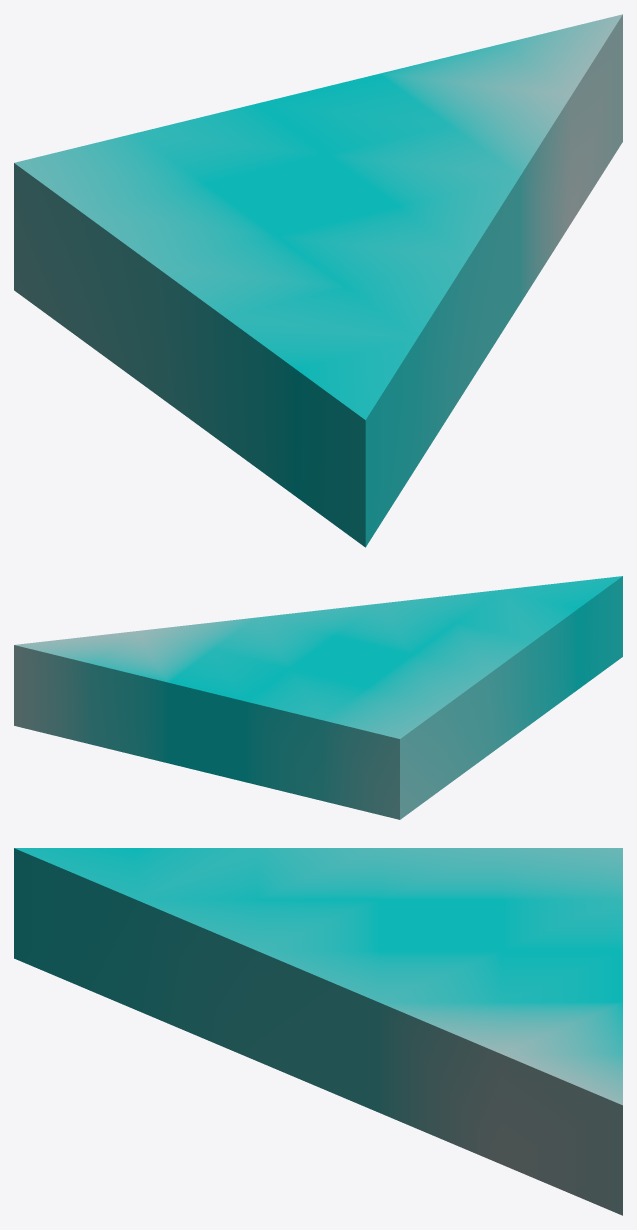
3 renders of one model, top to bottom at view 1: azimuth 30°, elevation 25°; view 2: azimuth 150°, elevation 25°; view 3: azimuth 270°, elevation 25°, orthographic. The views are drawn at different scales.
Parts seen in each view (by area): view 1: SM_Floor5x5-2Half_LOD0; view 2: SM_Floor5x5-2Half_LOD0; view 3: SM_Floor5x5-2Half_LOD0.
Part boxes in pixels (x1=…): SM_Floor5x5-2Half_LOD0: x1=14, y1=14, x2=622, y2=547; SM_Floor5x5-2Half_LOD0: x1=14, y1=576, x2=622, y2=819; SM_Floor5x5-2Half_LOD0: x1=14, y1=848, x2=622, y2=1215.
Size of the model in its own units: 500 by 500 by 100.
